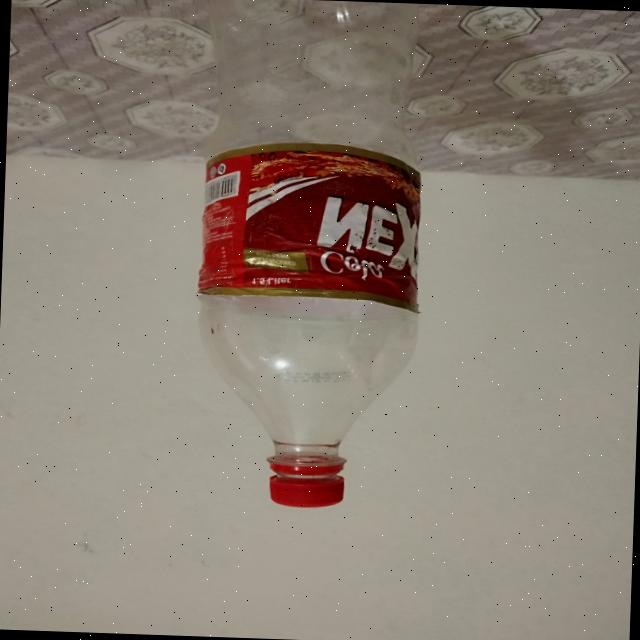bottle: (191, 0, 436, 511)
cap: (268, 458, 344, 511)
label: (200, 136, 423, 310)
